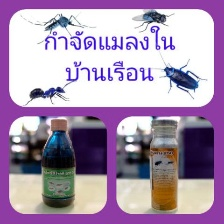insecticide: (38, 117, 79, 215), (145, 116, 183, 217)
